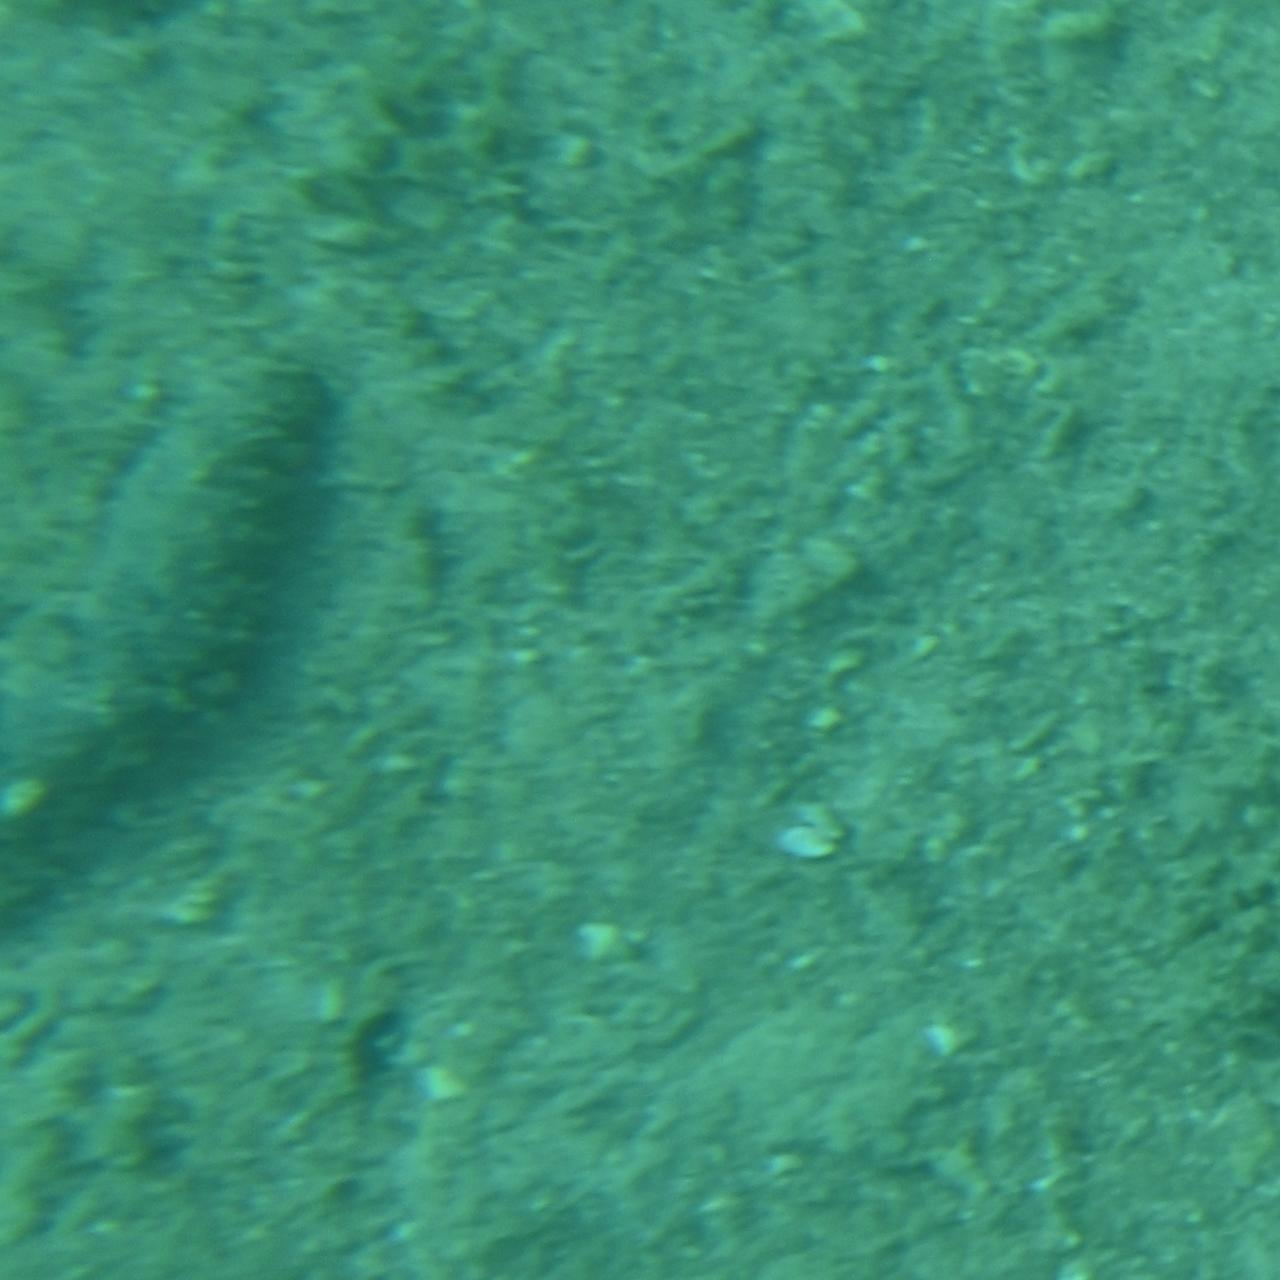Holothuria tubulosa: (0, 343, 330, 937)
